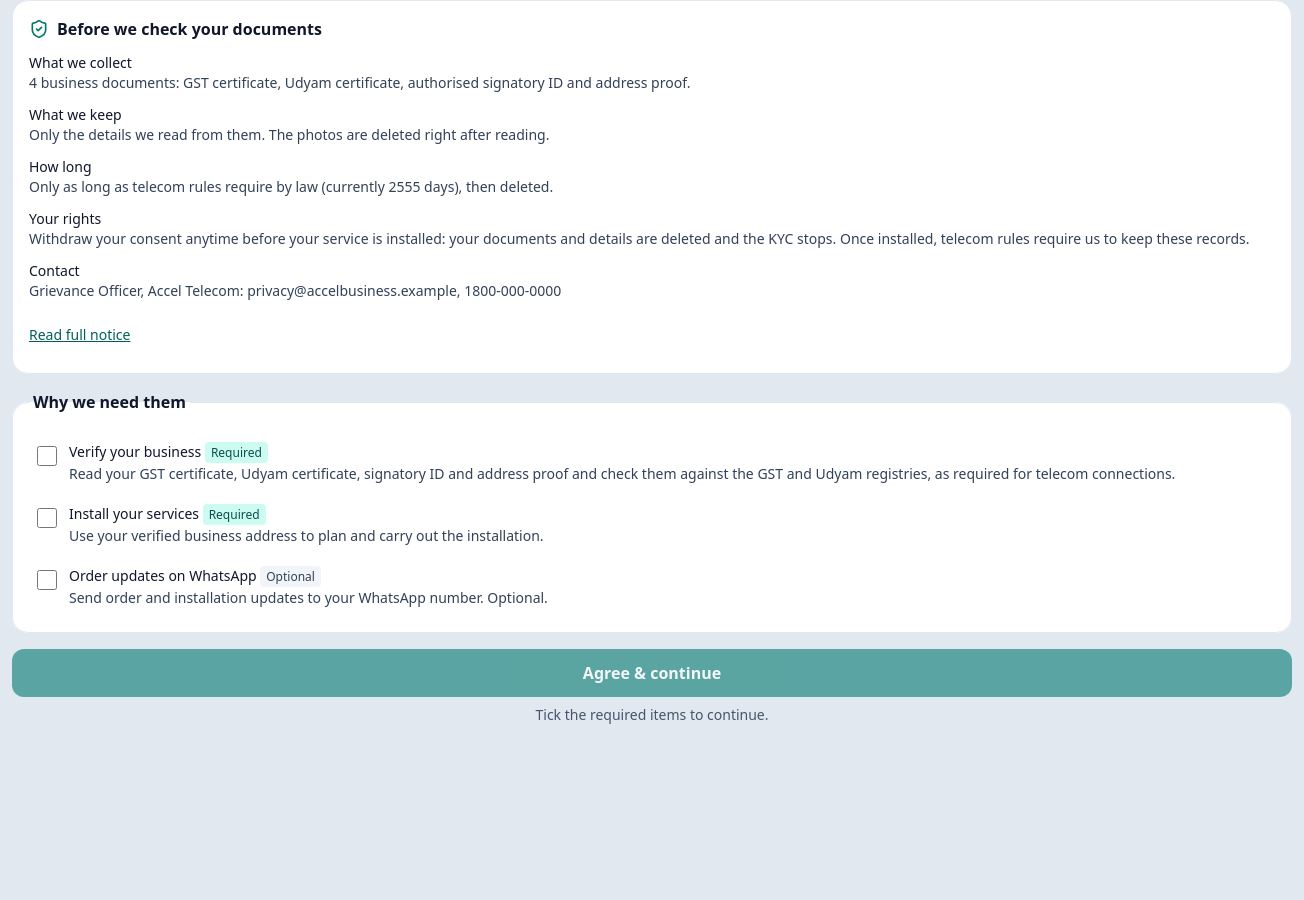
Scenario: ConsentStep › shows an error and lets the owner try again when saving fails
Check: the button "Agree & continue" is shown, box [12,649,1292,697]
What coordinates should you click on to do the following:
click the checkbox labelled "Verify your business"
I would click on:
 (47, 456)
Its box is [37,446,57,466].
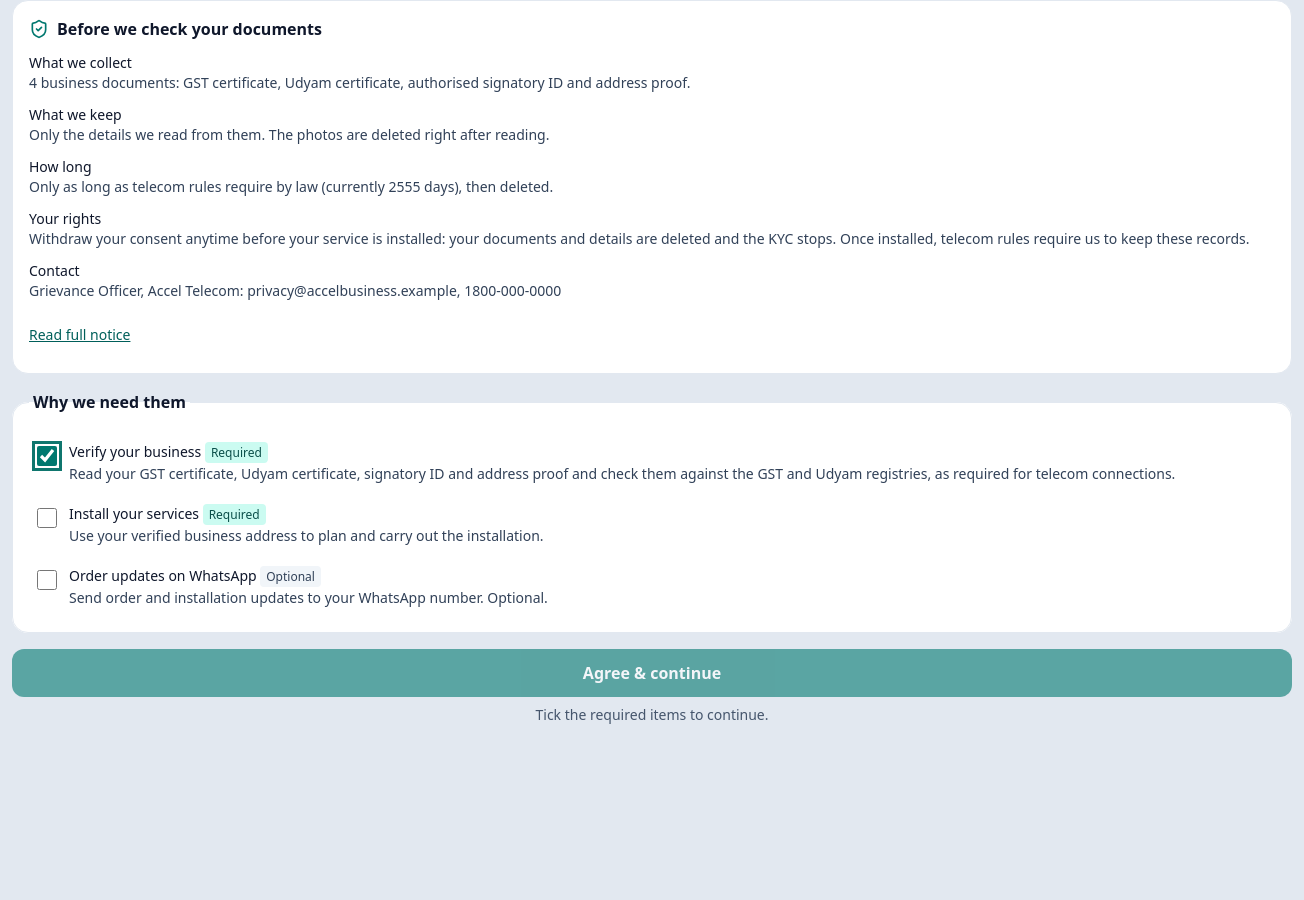
What coordinates should you click on to do the following:
click the checkbox labelled "Install your services"
I would click on:
 (47, 518)
Its box is [37,508,57,528].
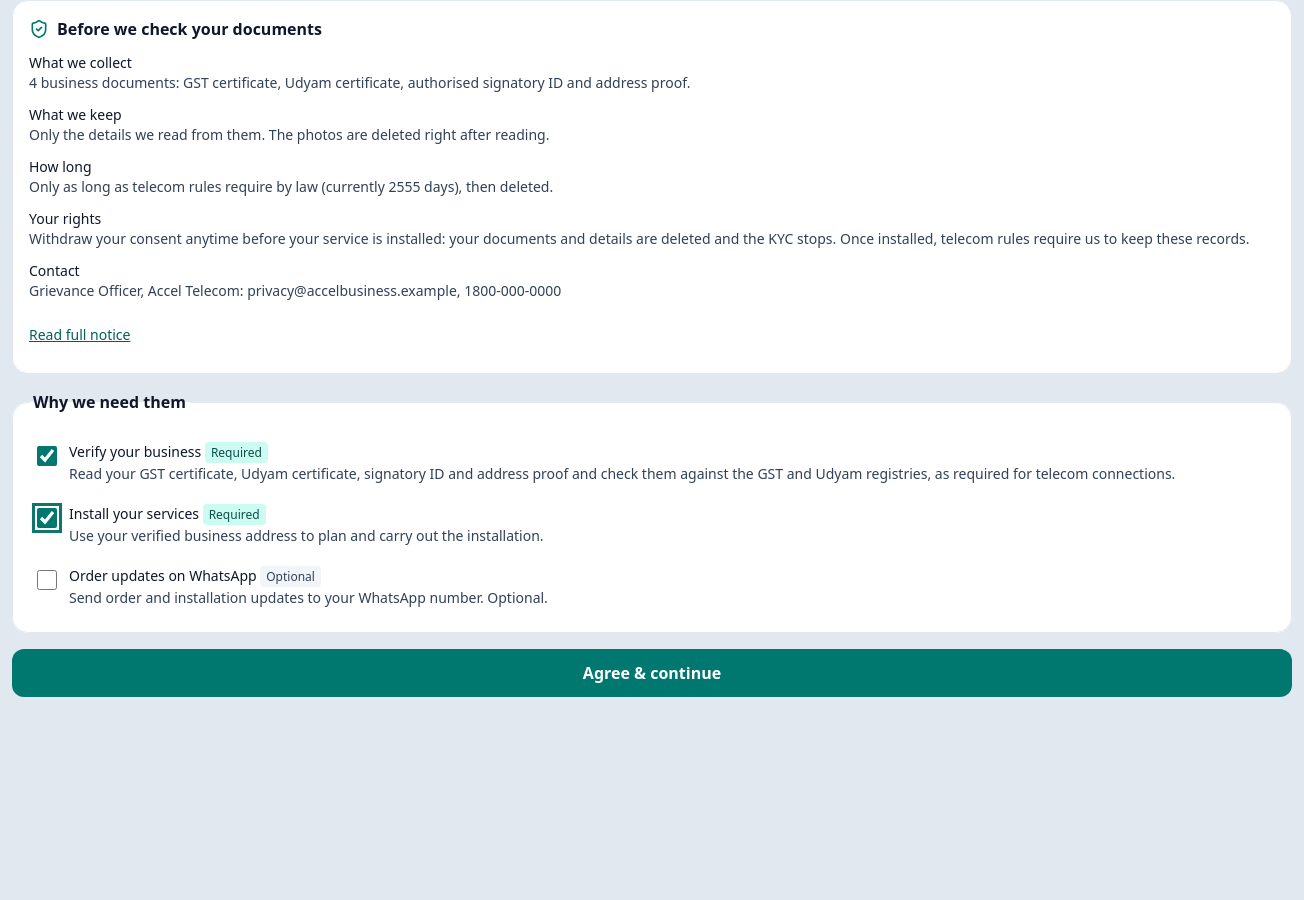
What coordinates should you click on to do the following:
click the button "Agree & continue"
I would click on:
 (652, 673)
Its box is [12,649,1292,697].
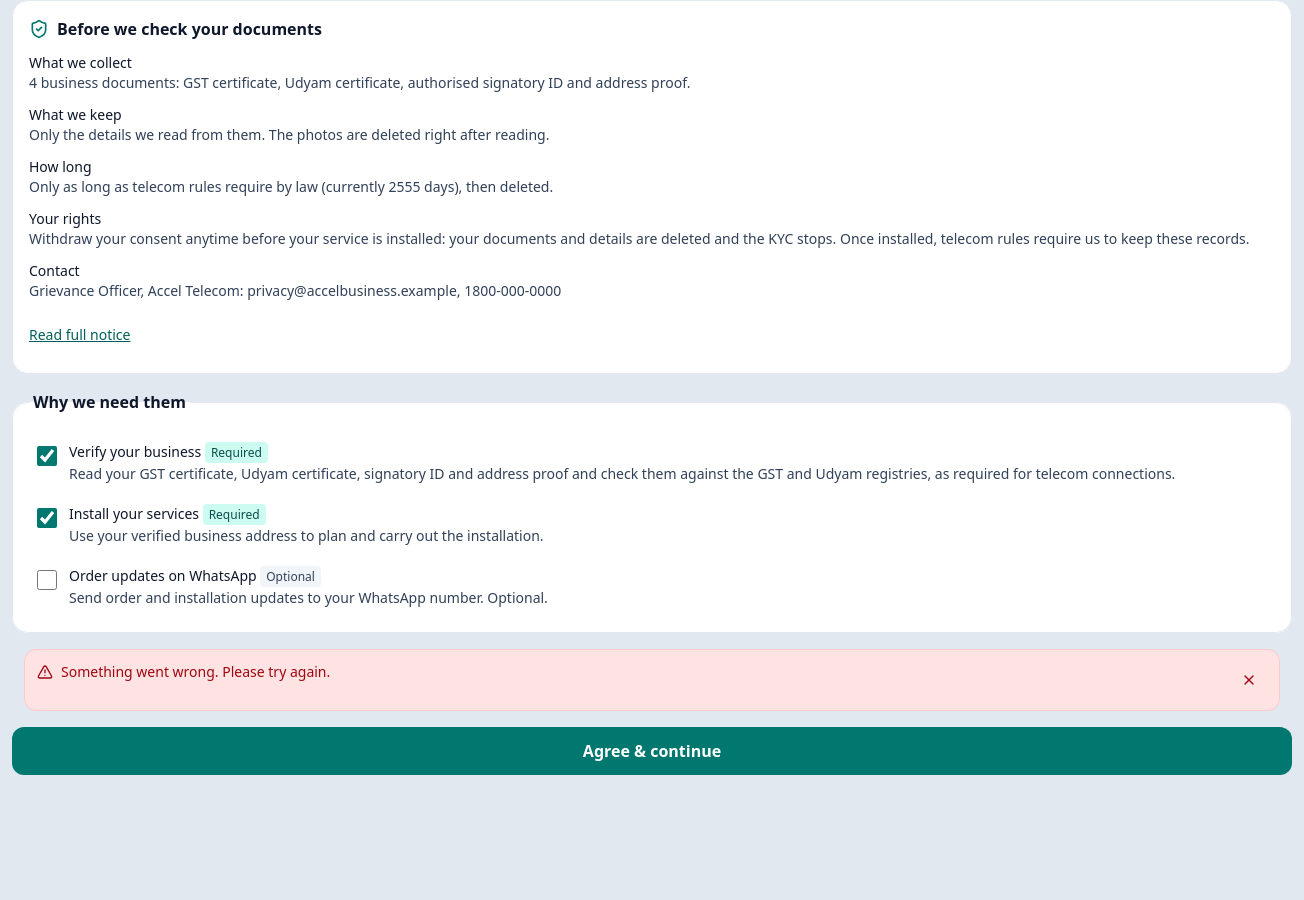
Check: the button "Agree & continue" is enabled, box [12,727,1292,775]
Check: the message shows "Something went wrong", box [61,662,330,681]
